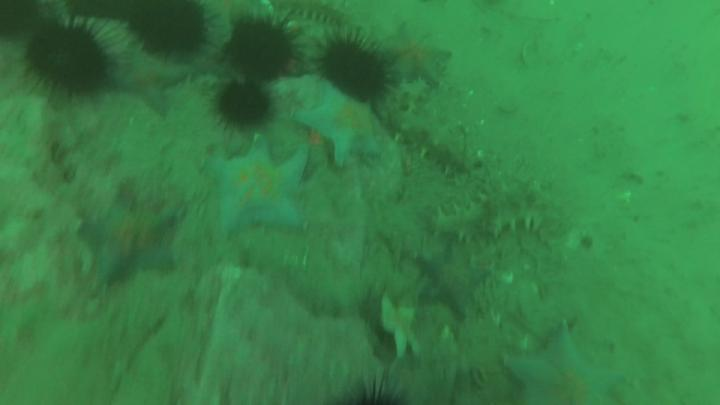echinus: (24, 29, 109, 96), (129, 1, 209, 61), (224, 16, 292, 77), (327, 36, 388, 100), (217, 85, 268, 127)
holothurian: (433, 186, 549, 240), (392, 107, 479, 175), (277, 1, 350, 23)
starfish: (207, 133, 309, 238), (506, 322, 625, 405), (80, 187, 177, 279), (298, 95, 383, 166), (415, 242, 492, 312), (387, 23, 453, 85), (379, 297, 424, 357)
